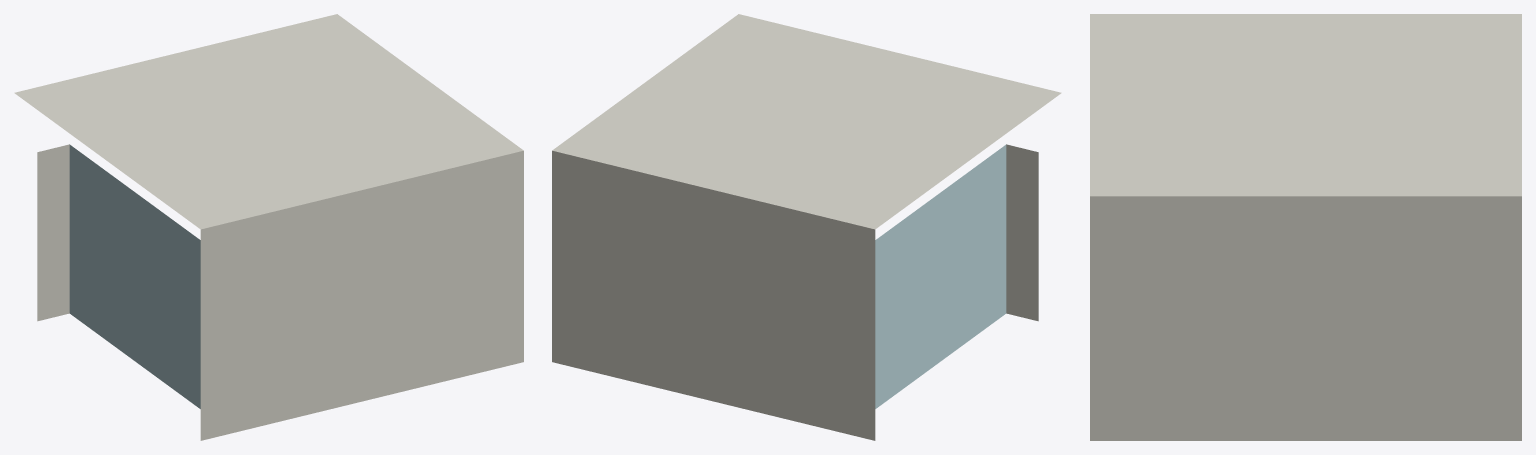
Rendered from modularBuildings_046.gltf.
3 views of the same model, side by side, from view 1: azimuth 30°, elevation 25°; view 2: azimuth 150°, elevation 25°; view 3: azimuth 270°, elevation 25° (orthographic). The views are drawn at different scales.
Parts seen in each view (by area): view 1: Mesh1 Group1 Model; view 2: Mesh1 Group1 Model; view 3: Mesh1 Group1 Model.
Part boxes in pixels (left/top/right/bottom): Mesh1 Group1 Model: left=14, top=14, right=523, bottom=440; Mesh1 Group1 Model: left=552, top=14, right=1061, bottom=440; Mesh1 Group1 Model: left=1090, top=14, right=1521, bottom=440.
Size of the model in its own units: 1 by 0.625 by 1.
